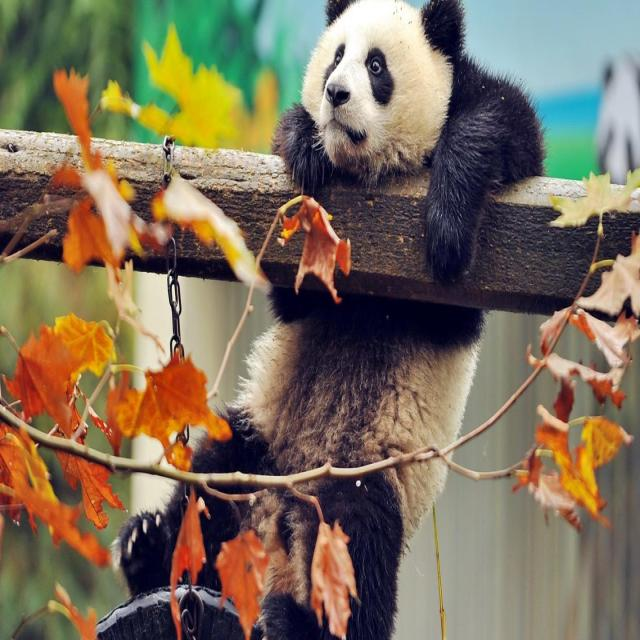panda: (115, 0, 533, 639)
